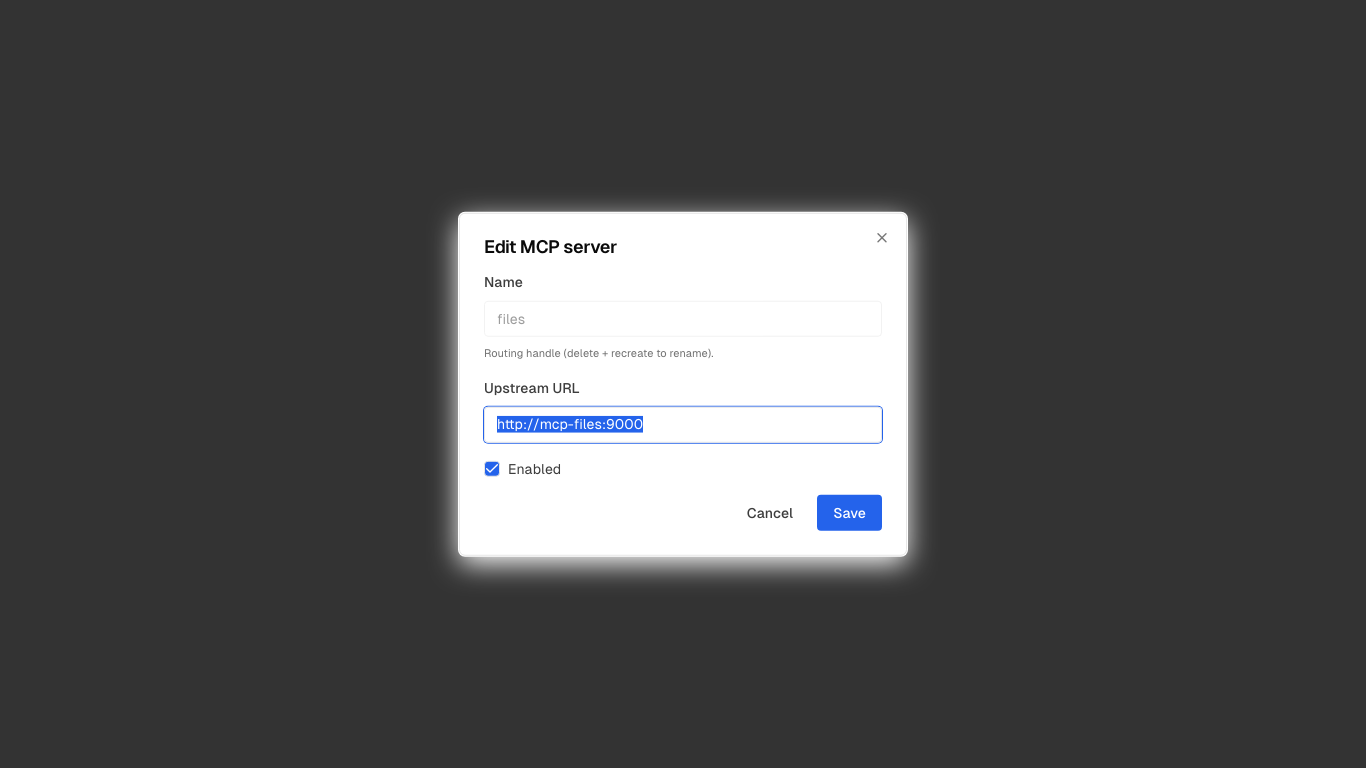
Test: McpServerDialog — edit › validates the URL on edit and surfaces backend failures
Clear the field showing "http://mcp-files:9000" at (683, 424), box [484,406,882,442]
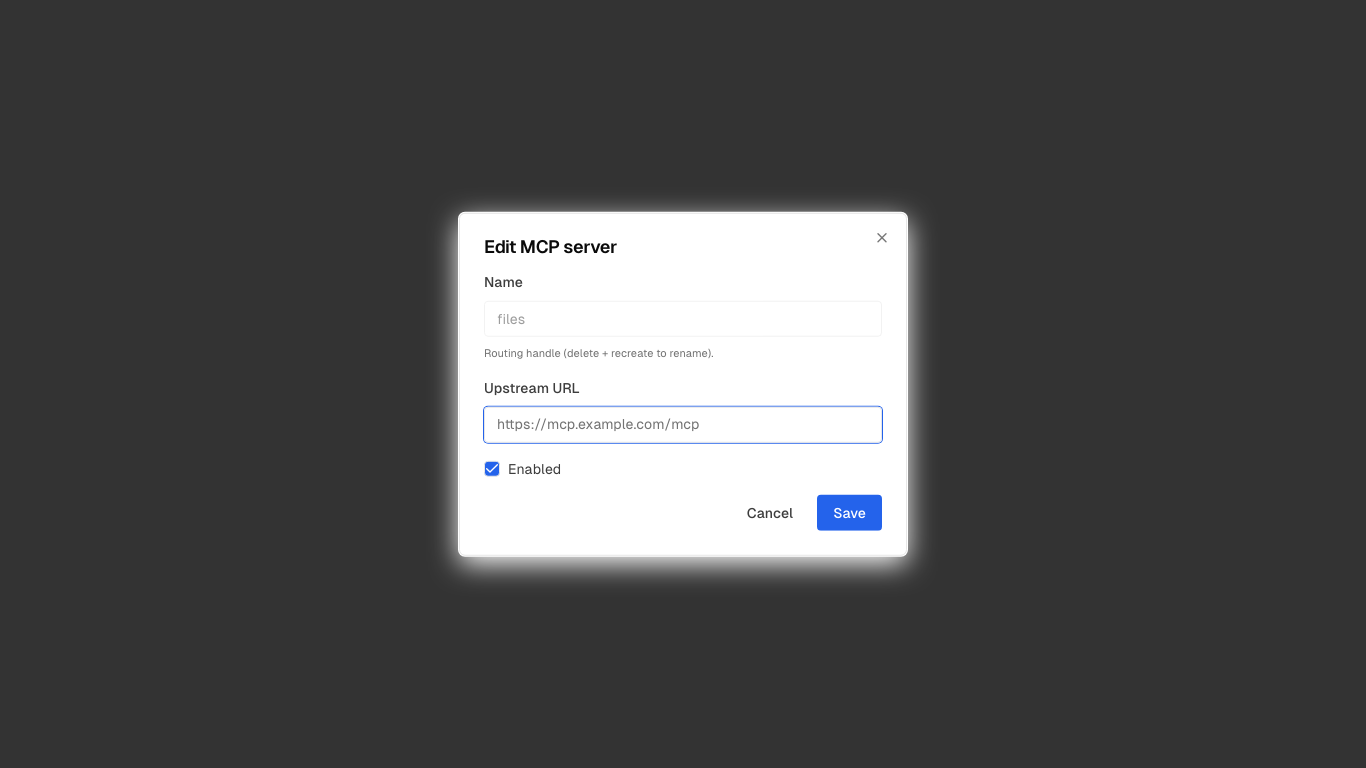
Click the button "Save".
click(850, 512)  # box [817,494,882,530]
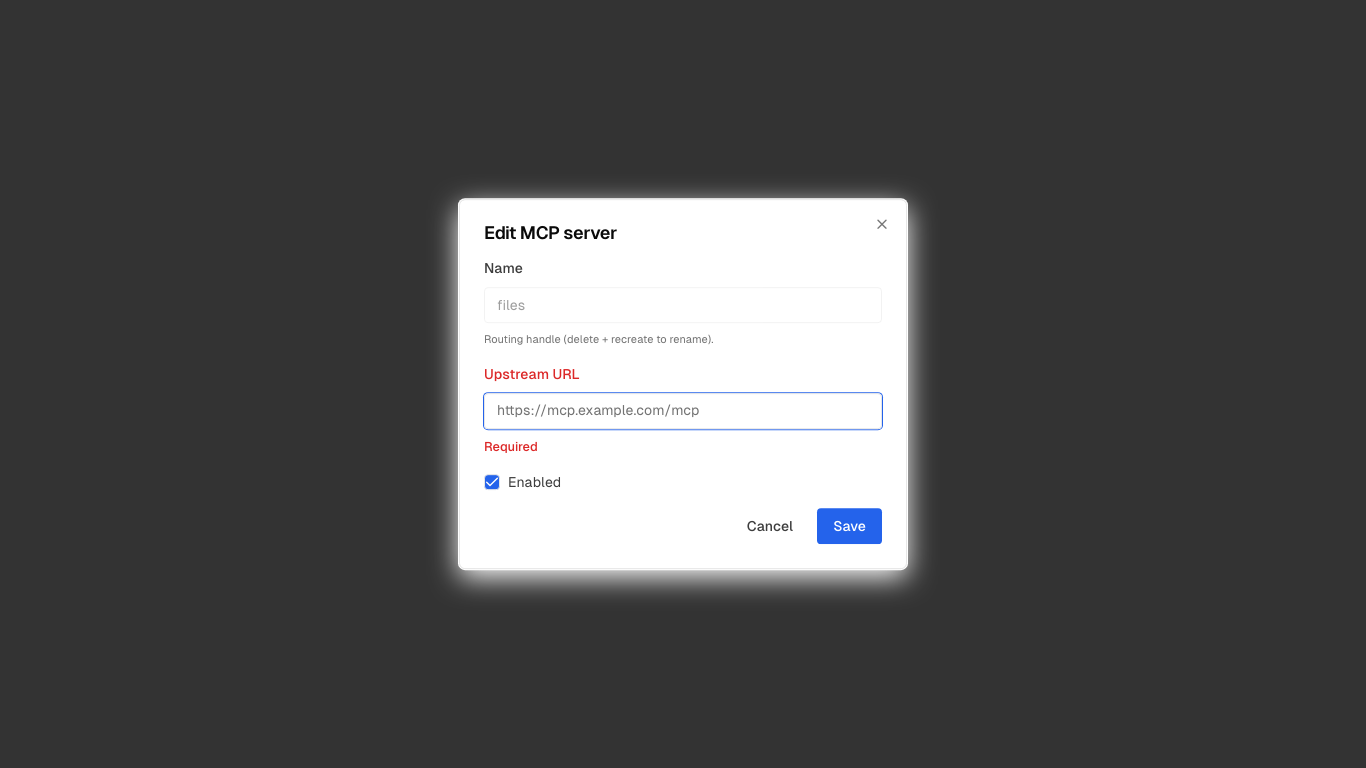
Now the text "Required" is shown, box [484,439,538,454]
Type "https://mcp.example.com" into the field showing "http://mcp-files:9000".
click(683, 411); type("https://mcp.example.com")  # box [484,393,882,429]
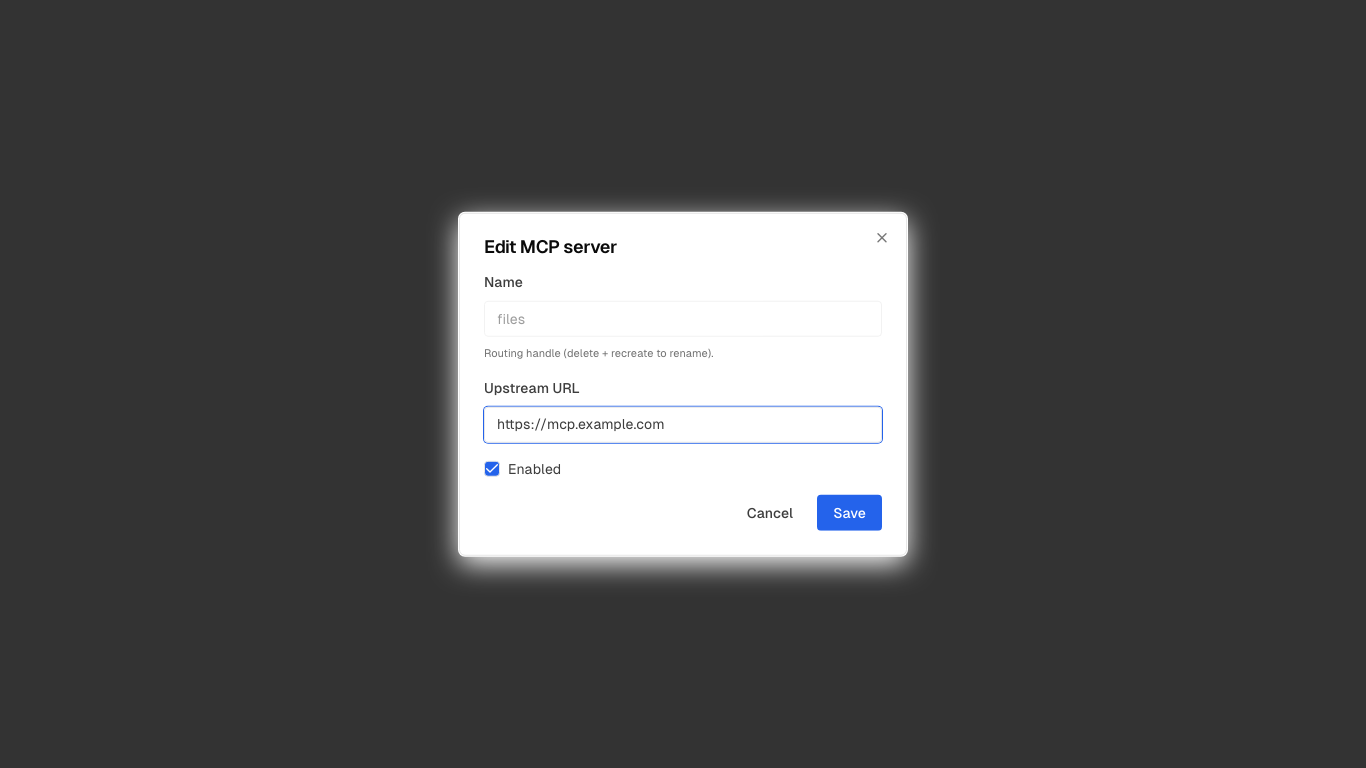
Click the button "Save".
click(850, 512)  # box [817,494,882,530]
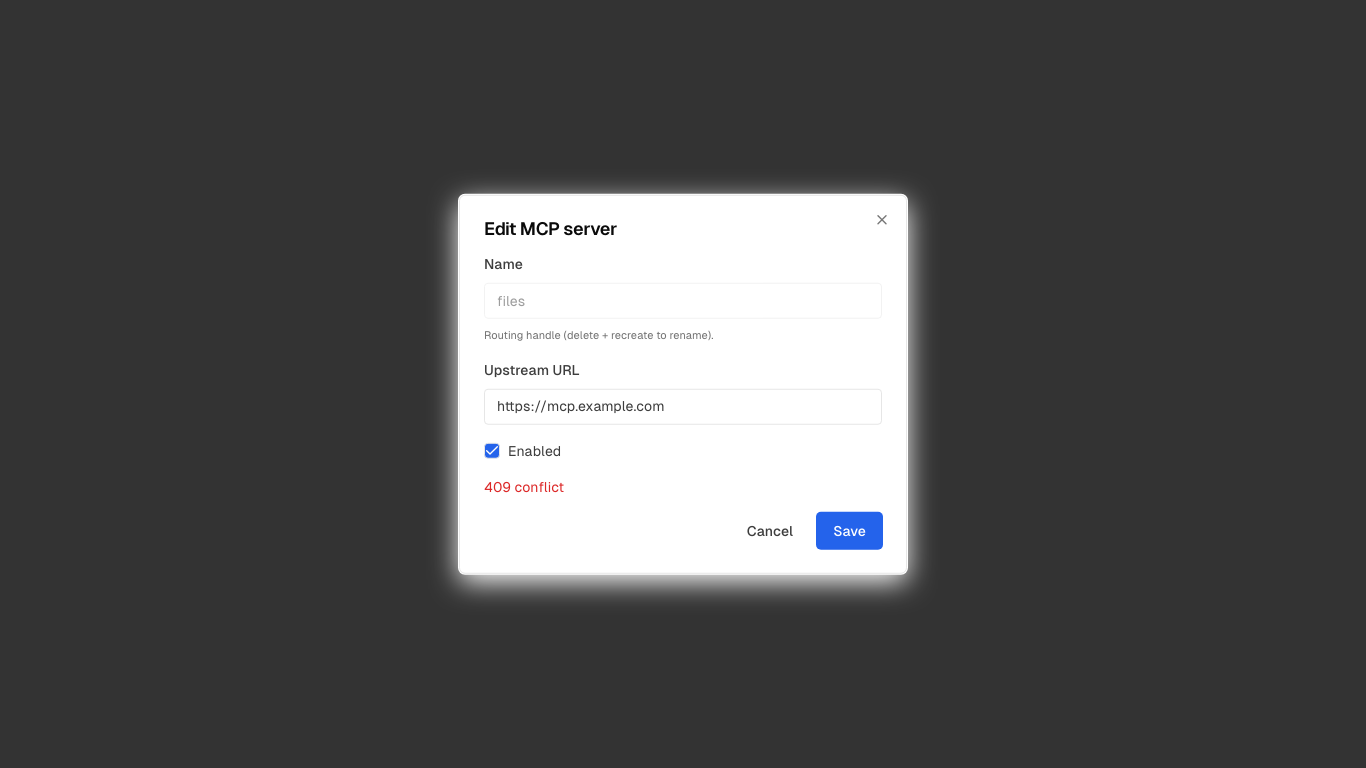
Now the text "409 conflict" is shown, box [484,478,564,494]
